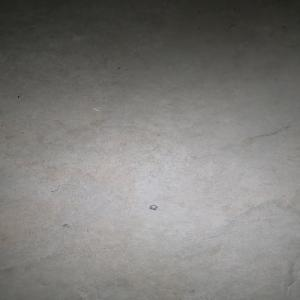Nut: (148, 204, 157, 210)
